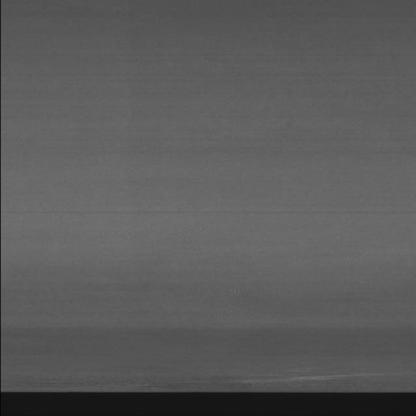silk_spot: (33, 364, 398, 389)
